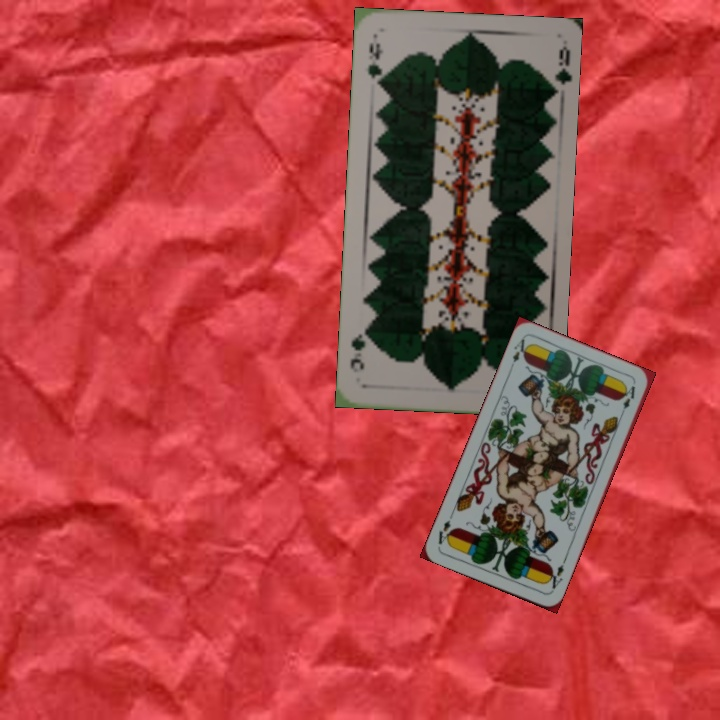EA: (543, 555, 569, 594), (508, 335, 532, 365)
G9: (363, 35, 386, 91)
